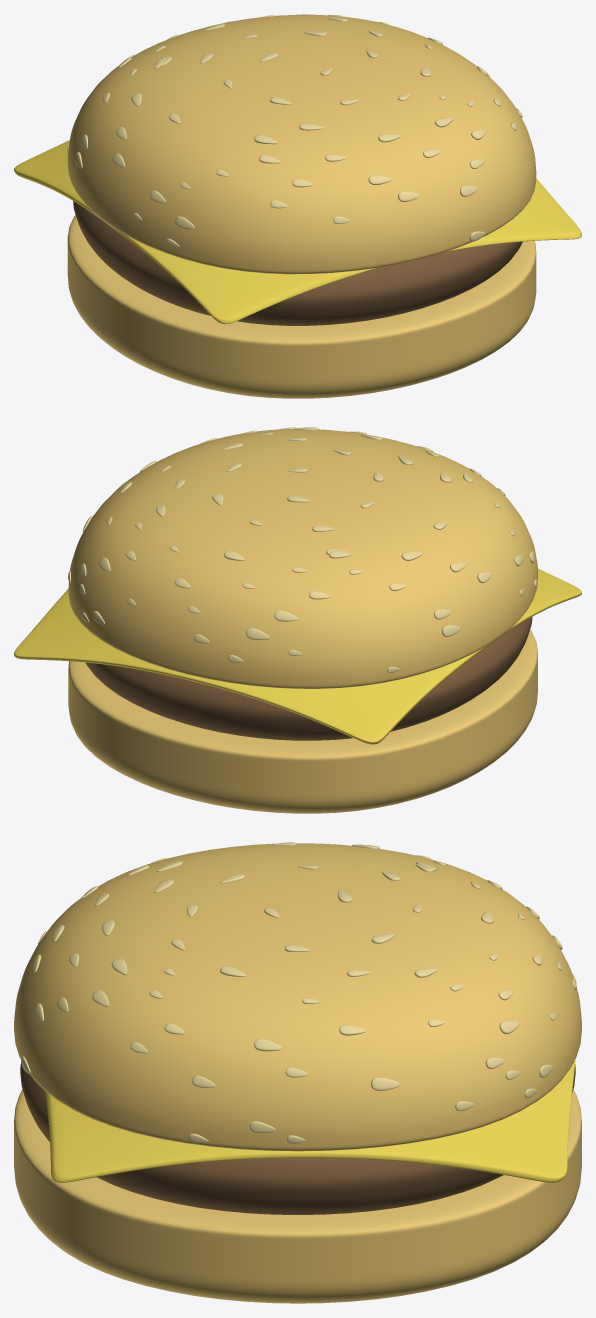
The model's file is burger.glb.
3 renders of one model, top to bottom at view 1: azimuth 30°, elevation 25°; view 2: azimuth 150°, elevation 25°; view 3: azimuth 270°, elevation 25°, orthographic. The views are drawn at different scales.
Parts seen in each view (by area): view 1: Top Bum, Lower Bum, Meat, Cheese, Cube.001; view 2: Top Bum, Lower Bum, Cheese, Meat, Cube.001; view 3: Top Bum, Lower Bum, Cheese, Meat, Cube.001.
Boxes of the visible parts, x1,y1,x2,y2 form: Top Bum: [67, 14, 536, 274]; Lower Bum: [67, 215, 536, 398]; Meat: [73, 201, 522, 325]; Cheese: [14, 140, 581, 324]; Cube.001: [67, 14, 522, 247]; Top Bum: [68, 429, 537, 688]; Lower Bum: [68, 629, 537, 813]; Cheese: [14, 568, 581, 744]; Meat: [85, 616, 532, 740]; Cube.001: [68, 427, 537, 672]; Top Bum: [14, 843, 581, 1151]; Lower Bum: [14, 1089, 581, 1303]; Cheese: [45, 1059, 575, 1182]; Meat: [20, 1061, 575, 1214]; Cube.001: [21, 842, 576, 1143].
Bounding box in the file's own units: 9.2 × 5.77 × 9.39.
